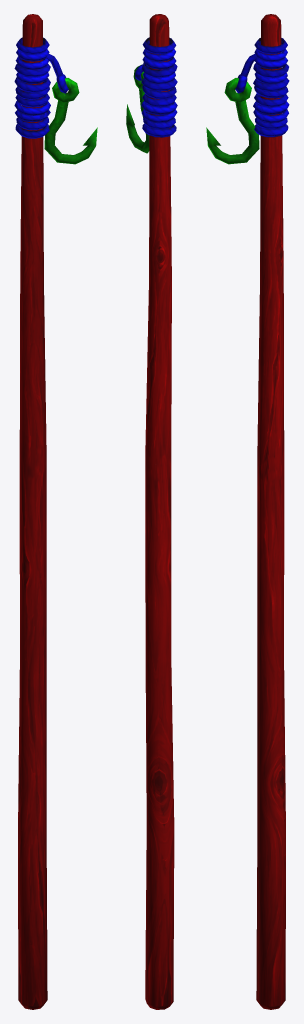
Rendered from Rod01.fbx.
3 views of the same model, side by side, from view 1: azimuth 90°, elevation 25°; view 2: azimuth 210°, elevation 25°; view 3: azimuth 270°, elevation 25° (orthographic).
Parts seen in each view (by area): view 1: Rod01_LOD0; view 2: Rod01_LOD0; view 3: Rod01_LOD0.
Boxes of the visible parts, x1=… form: Rod01_LOD0: x1=14, y1=14, x2=97, y2=1009; Rod01_LOD0: x1=126, y1=14, x2=177, y2=1009; Rod01_LOD0: x1=206, y1=14, x2=289, y2=1009.
Size of what is drawn, in the model's own units: 0.0511 by 1.52 by 0.1158.
